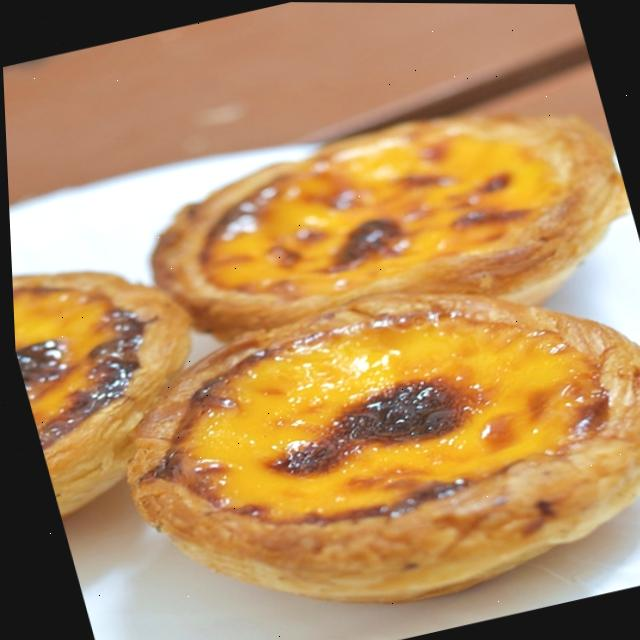炸货点心: (1, 42, 640, 640)
蛋糕甜品: (1, 42, 640, 640)
